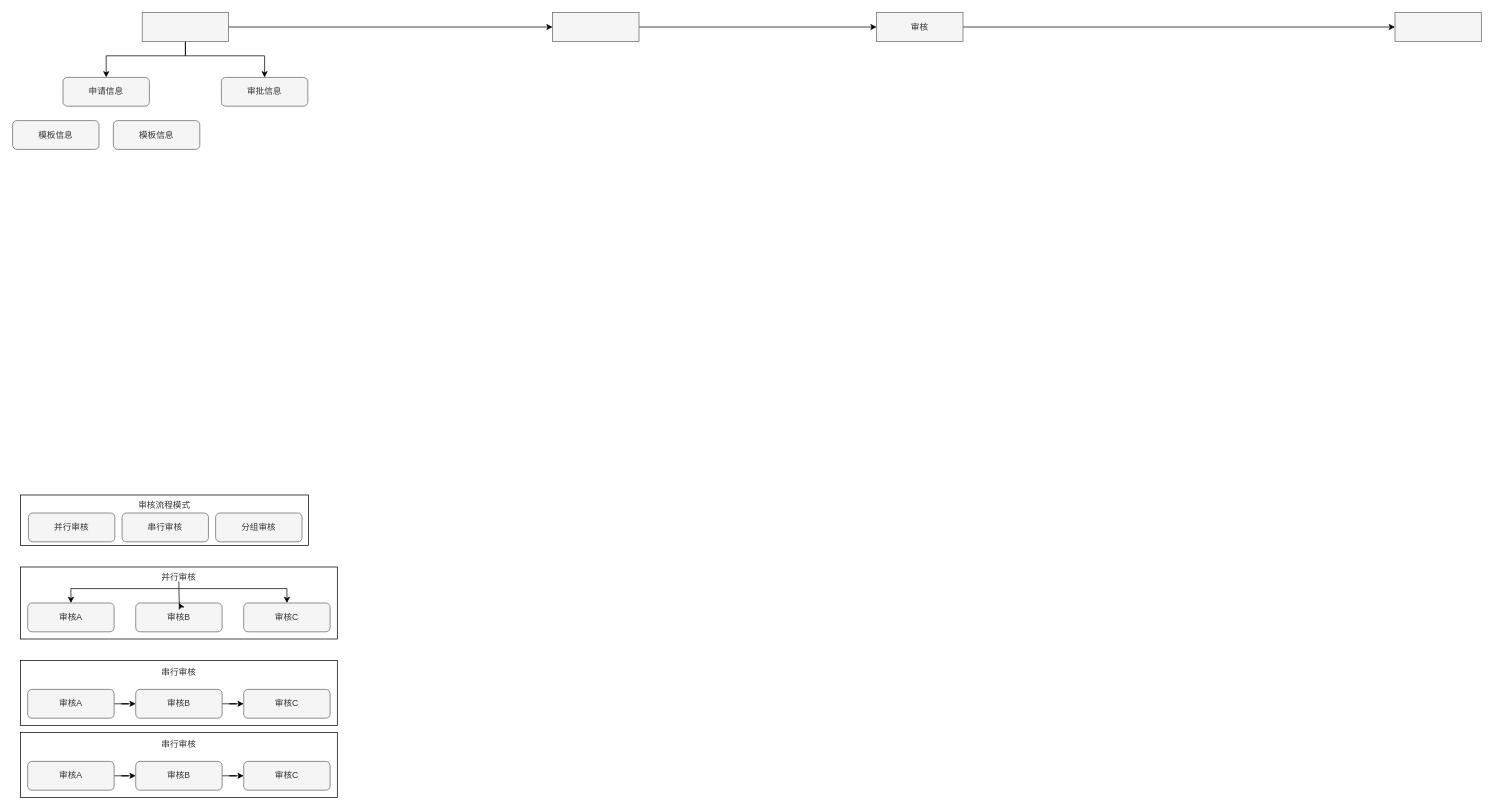
The diagram is 1494 pixels wide and 810 high, and some of its shapes have lost their labels. Here are the shapes that lost their labels. From the top down, the centre of each, then its label:
At point 185,26: "创建申请模板".
At point 595,26: "创建申请".
At point 1437,26: "完成审批".
